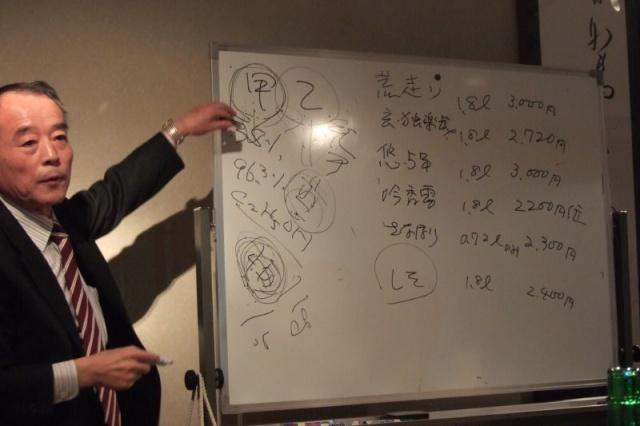Whiteboard: (207, 40, 620, 413)
